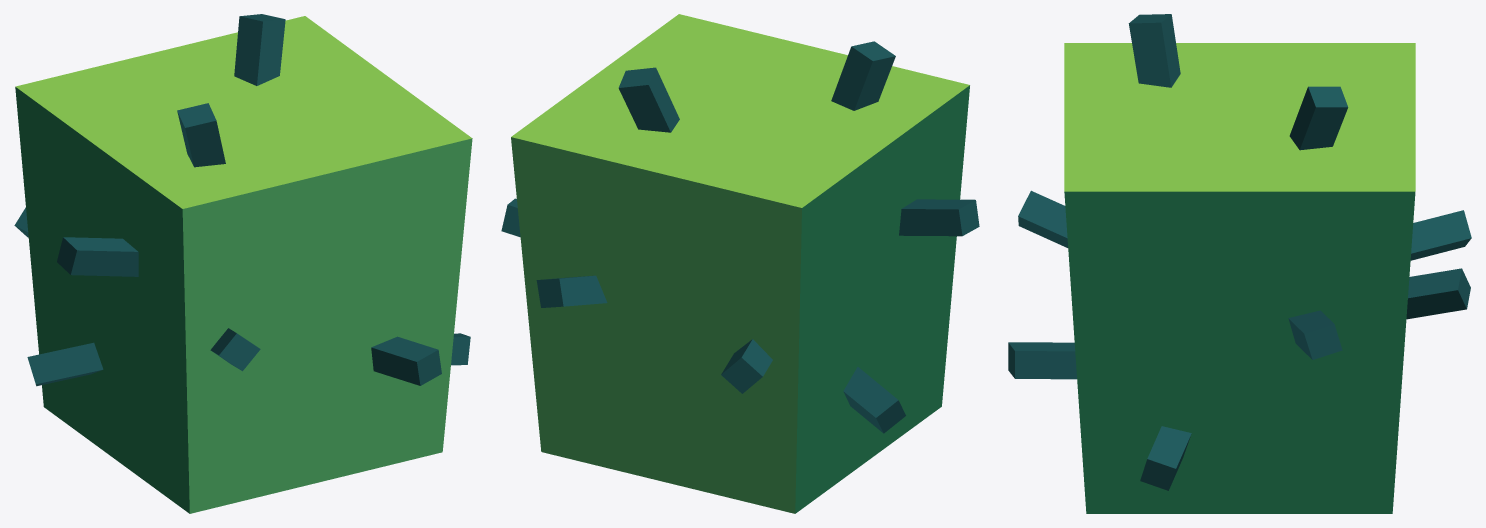
The model's file is cactusS.fbx.
3 views of the same model, side by side, from view 1: azimuth 30°, elevation 25°; view 2: azimuth 150°, elevation 25°; view 3: azimuth 270°, elevation 25° (orthographic). The views are drawn at different scales.
Visible parts, largest first — view 1: body, thorn7, thorn3, thorn1, thorn5, thorn9, thorn2, thorn; view 2: body, thorn5, thorn3, thorn7, thorn9, thorn8, thorn4; view 3: body, thorn5, thorn7, thorn8, thorn1, thorn4, thorn, thorn2, thorn6.
Boxes of the visible parts, x1,y1,x2,y2 form: body: (15, 16, 472, 513); thorn7: (234, 14, 285, 85); thorn3: (57, 237, 138, 276); thorn1: (371, 336, 441, 385); thorn5: (177, 103, 225, 167); thorn9: (27, 342, 103, 386); thorn2: (210, 328, 260, 371); thorn: (451, 333, 470, 365); body: (511, 14, 969, 513); thorn5: (831, 41, 895, 110); thorn3: (899, 199, 979, 236); thorn7: (618, 67, 679, 132); thorn9: (843, 367, 905, 433); thorn8: (536, 275, 607, 307); thorn4: (721, 339, 772, 393); body: (1064, 43, 1415, 513); thorn5: (1128, 14, 1180, 87); thorn7: (1289, 86, 1348, 150); thorn8: (1406, 268, 1470, 319); thorn1: (1008, 342, 1076, 379); thorn4: (1410, 210, 1471, 260); thorn: (1140, 426, 1191, 490); thorn2: (1018, 190, 1068, 247); thorn6: (1288, 310, 1342, 359).
Size of the model in its own units: 61.73 by 54.6 by 58.87.
1 material, 1 textured.
